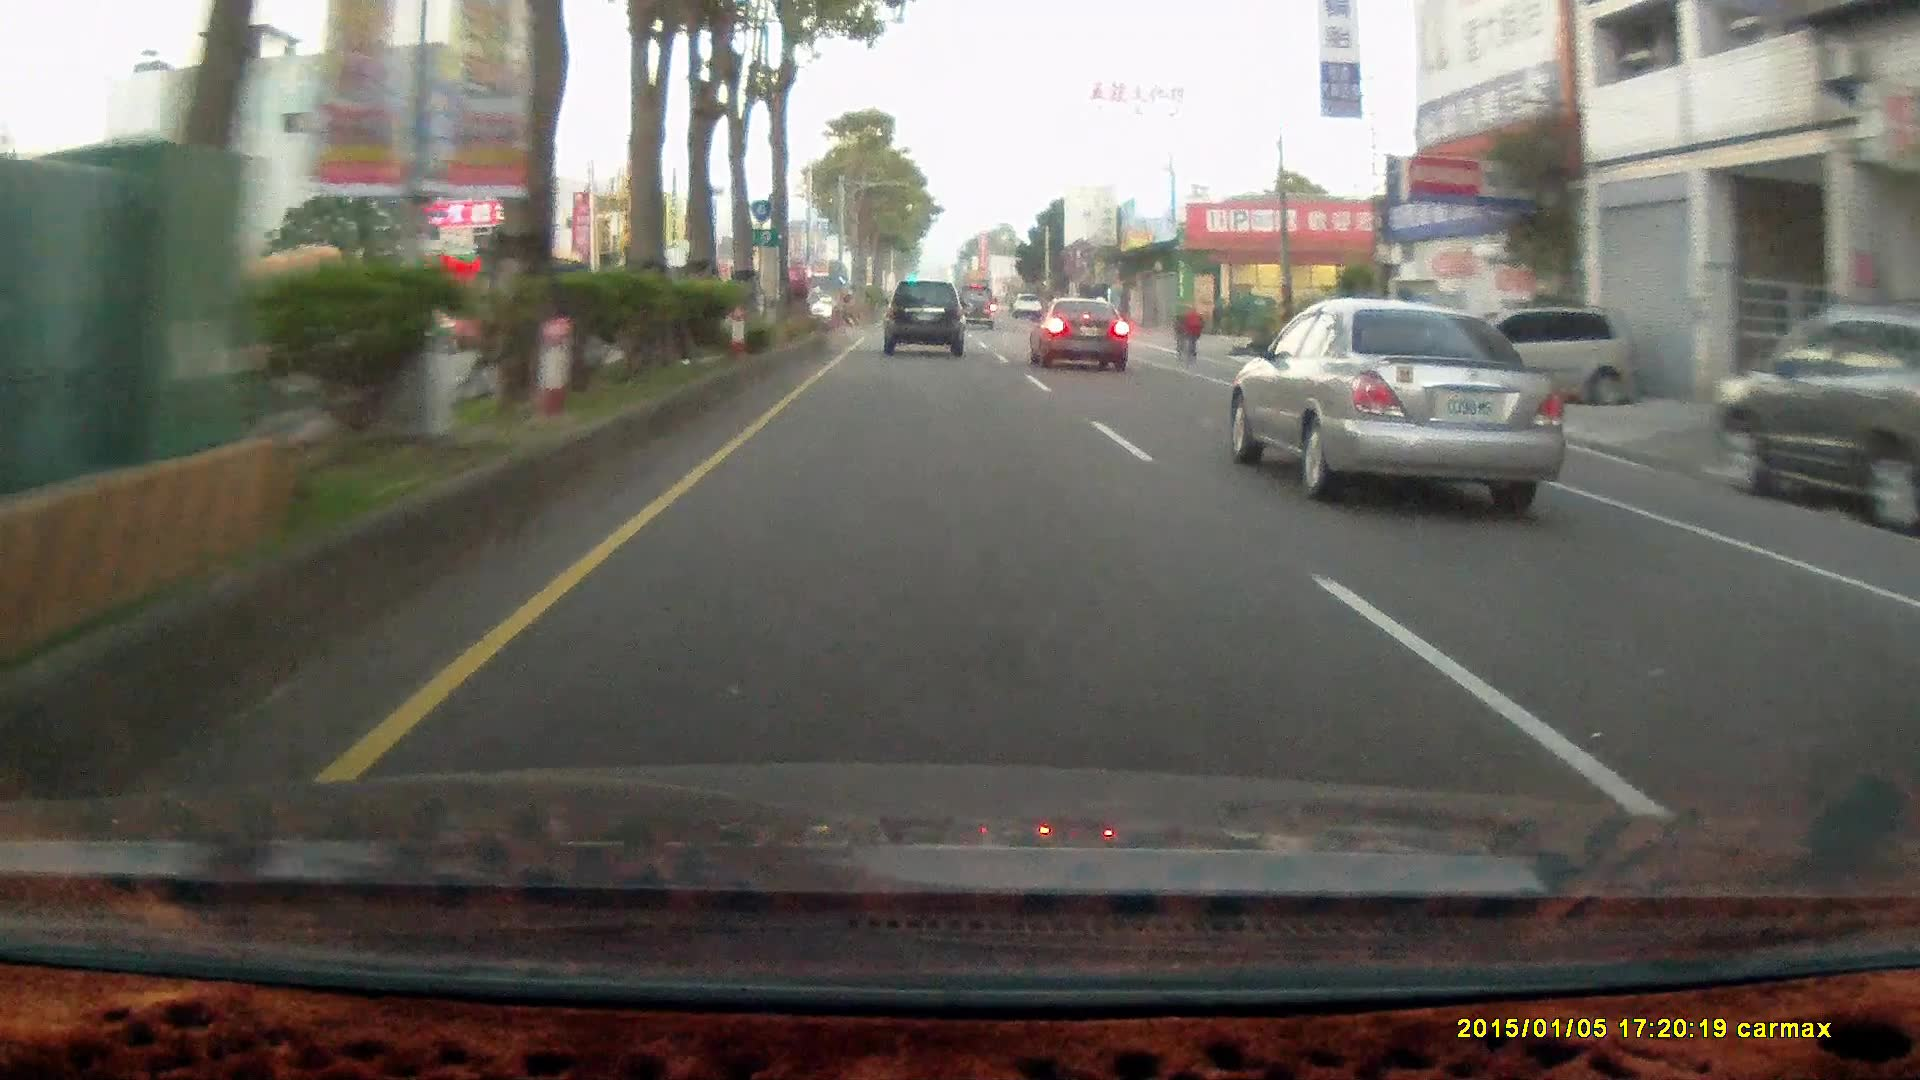pedestrian: (1180, 299, 1203, 357), (1182, 301, 1204, 357)
vehicle: (1237, 298, 1568, 500), (1708, 298, 1920, 534), (1704, 298, 1920, 524), (1442, 305, 1641, 409), (1441, 302, 1640, 405), (1027, 298, 1133, 374), (1027, 293, 1128, 370), (882, 282, 971, 357), (882, 278, 963, 353), (957, 281, 996, 327)
